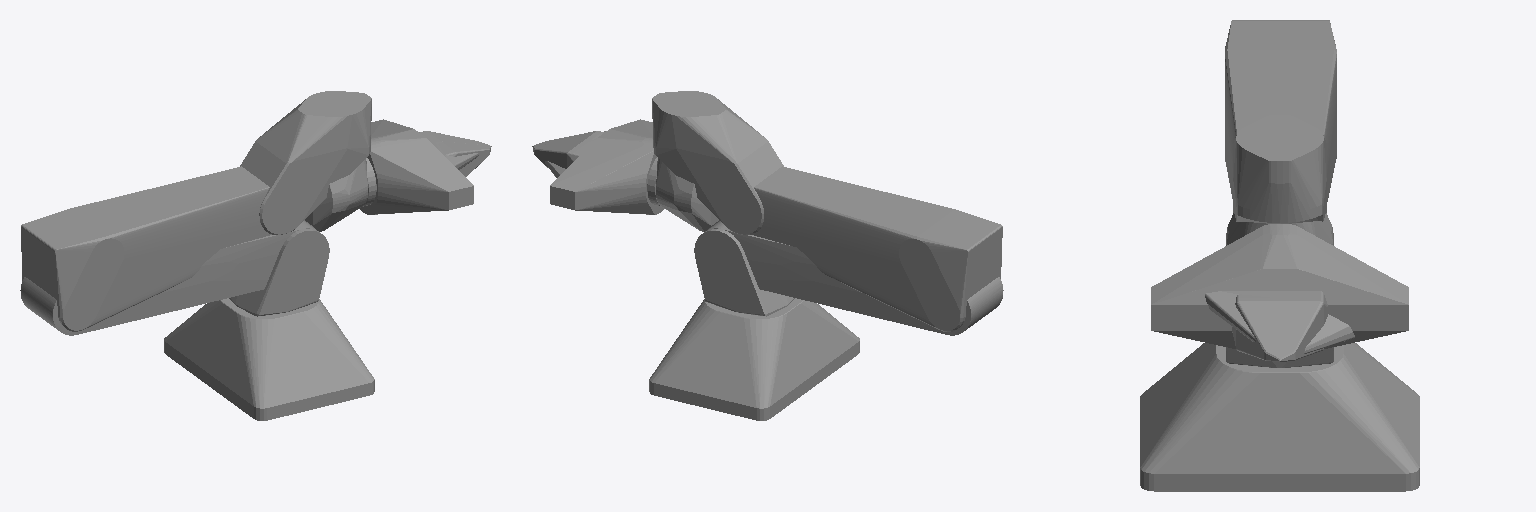
URDF robot description (rebot_b601dm):
<?xml version="1.0" ?>
<!-- =================================================================================== -->
<!-- |    This document was autogenerated by xacro from /workspaces/rebot_isaac_ws/src/rebot_b601dm_description/urdf/rebot_b601dm_full.urdf.xacro | -->
<!-- |    EDITING THIS FILE BY HAND IS NOT RECOMMENDED                                 | -->
<!-- =================================================================================== -->
<!--
  PRODUCT 1 of 2: the FULL planning model.
  Consumers: MoveIt, cuMotion, robot_state_publisher, nvblox robot segmenter,
             the Isaac Sim USD import.

  Contains the arm, the parallel-jaw gripper (2 prismatic joints, one mimicking
  the other), gripper_tcp, and the wrist camera frames.

  Generate with:
    xacro rebot_b601dm_full.urdf.xacro \
      extrinsics_file:=<ws>/config/extrinsics_sim.yaml > rebot_b601dm_full.urdf

  The companion driver product (rebot_b601dm_driver.urdf.xacro) shares the arm
  and wrist macros so the two cannot drift apart — that shared-source property
  is what makes the Stage 2 cross-model FK parity test meaningful rather than
  circular.
-->
<robot name="rebot_b601dm">
  <link name="base_link">
    <inertial>
      <origin rpy="0 0 0" xyz="-2.70523135620574E-06 -7.70134319499296E-06 0.028980835090929"/>
      <mass value="0.79874480798149"/>
      <inertia ixx="0.00167922927706365" ixy="1.88775164237686E-09" ixz="-1.97136369561029E-08" iyy="0.00100413042930826" iyz="2.1823444305057E-07" izz="0.00243992061460991"/>
    </inertial>
    <visual>
      <origin rpy="0 0 0" xyz="0 0 0"/>
      <geometry>
        <mesh filename="package://rebot_b601dm_description/meshes/visual/base_link.STL"/>
      </geometry>
      <material name="rebot_grey">
        <color rgba="0.627450980392157 0.627450980392157 0.627450980392157 1"/>
      </material>
    </visual>
    <collision>
      <origin rpy="0 0 0" xyz="0 0 0"/>
      <geometry>
        <mesh filename="package://rebot_b601dm_description/meshes/collision/base_link.STL"/>
      </geometry>
    </collision>
  </link>
  <link name="link1">
    <inertial>
      <origin rpy="0 0 0" xyz="1.20584908205569E-05 -0.00052246270024925 0.0197721792915801"/>
      <mass value="0.0840736498625263"/>
      <inertia ixx="8.53930680558479E-05" ixy="5.36083090564592E-11" ixz="8.1878892265138E-06" iyy="5.08885968641724E-05" iyz="1.61532065580032E-10" izz="8.03867731313707E-05"/>
    </inertial>
    <visual>
      <origin rpy="0 0 0" xyz="0 0 0"/>
      <geometry>
        <mesh filename="package://rebot_b601dm_description/meshes/visual/link1.STL"/>
      </geometry>
      <material name="rebot_grey"/>
    </visual>
    <collision>
      <origin rpy="0 0 0" xyz="0 0 0"/>
      <geometry>
        <mesh filename="package://rebot_b601dm_description/meshes/collision/link1.STL"/>
      </geometry>
    </collision>
  </link>
  <joint name="joint1" type="revolute">
    <origin rpy="0 0 0" xyz="-8.416E-05 0 0.08465"/>
    <parent link="base_link"/>
    <child link="link1"/>
    <axis xyz="0 0 1"/>
    <limit effort="27" lower="-2.8" upper="2.8" velocity="5.0"/>
  </joint>
  <link name="link2">
    <inertial>
      <origin rpy="0 0 0" xyz="-0.13224463371047 -0.00305031595315752 -0.0309299400248282"/>
      <mass value="0.710394385134637"/>
      <inertia ixx="0.00025002655459552" ixy="1.60716279794484E-06" ixz="2.51351488848234E-09" iyy="0.00186321981627926" iyz="4.36542160316282E-07" izz="0.00186007710433815"/>
    </inertial>
    <visual>
      <origin rpy="0 0 0" xyz="0 0 0"/>
      <geometry>
        <mesh filename="package://rebot_b601dm_description/meshes/visual/link2.STL"/>
      </geometry>
      <material name="rebot_grey"/>
    </visual>
    <collision>
      <origin rpy="0 0 0" xyz="0 0 0"/>
      <geometry>
        <mesh filename="package://rebot_b601dm_description/meshes/collision/link2.STL"/>
      </geometry>
    </collision>
  </link>
  <joint name="joint2" type="revolute">
    <origin rpy="-1.5708 0 0" xyz="0.020084 0.031625 0.05555"/>
    <parent link="link1"/>
    <child link="link2"/>
    <axis xyz="0 0 -1"/>
    <limit effort="27" lower="-3.14" upper="0" velocity="5.0"/>
  </joint>
  <link name="link3">
    <inertial>
      <origin rpy="0 0 0" xyz="0.121507513231219 -0.0537568110789665 -0.0310861781010256"/>
      <mass value="0.524941641478664"/>
      <inertia ixx="0.000160157099221732" ixy="-1.6160403467948E-05" ixz="-3.33082723997513E-06" iyy="0.00124905589930288" iyz="2.96940939137566E-07" izz="0.00125568117526574"/>
    </inertial>
    <visual>
      <origin rpy="0 0 0" xyz="0 0 0"/>
      <geometry>
        <mesh filename="package://rebot_b601dm_description/meshes/visual/link3.STL"/>
      </geometry>
      <material name="rebot_grey"/>
    </visual>
    <collision>
      <origin rpy="0 0 0" xyz="0 0 0"/>
      <geometry>
        <mesh filename="package://rebot_b601dm_description/meshes/collision/link3.STL"/>
      </geometry>
    </collision>
  </link>
  <joint name="joint3" type="revolute">
    <origin rpy="0 0 0" xyz="-0.264 0 0"/>
    <parent link="link2"/>
    <child link="link3"/>
    <axis xyz="0 0 1"/>
    <limit effort="27" lower="-3.14" upper="0" velocity="5.0"/>
  </joint>
  <link name="link4">
    <inertial>
      <origin rpy="0 0 0" xyz="0.0612381846323297 -0.0515229512574568 -0.0303340352965348"/>
      <mass value="0.191139210973019"/>
      <inertia ixx="7.18184289370392E-05" ixy="-1.12301944951731E-05" ixz="-5.19641435494074E-08" iyy="0.000112900067589117" iyz="2.21782677668291E-07" izz="0.000101141504876404"/>
    </inertial>
    <visual>
      <origin rpy="0 0 0" xyz="0 0 0"/>
      <geometry>
        <mesh filename="package://rebot_b601dm_description/meshes/visual/link4.STL"/>
      </geometry>
      <material name="rebot_grey"/>
    </visual>
    <collision>
      <origin rpy="0 0 0" xyz="0 0 0"/>
      <geometry>
        <mesh filename="package://rebot_b601dm_description/meshes/collision/link4.STL"/>
      </geometry>
    </collision>
  </link>
  <joint name="joint4" type="revolute">
    <origin rpy="0 0 0" xyz="0.2426 -0.054 -0.001625"/>
    <parent link="link3"/>
    <child link="link4"/>
    <axis xyz="0 0 1"/>
    <limit effort="7" lower="-1.87" upper="1.57" velocity="3.0"/>
  </joint>
  <link name="link5">
    <inertial>
      <origin rpy="0 0 0" xyz="-0.00504933072901427 1.74603011302099E-06 0.0387866303374511"/>
      <mass value="0.150004102113546"/>
      <inertia ixx="6.79196566487009E-05" ixy="-7.20237013118825E-10" ixz="-2.82554291275232E-06" iyy="5.17186991502111E-05" iyz="9.87947763397051E-09" izz="5.43656904496111E-05"/>
    </inertial>
    <visual>
      <origin rpy="0 0 0" xyz="0 0 0"/>
      <geometry>
        <mesh filename="package://rebot_b601dm_description/meshes/visual/link5.STL"/>
      </geometry>
      <material name="rebot_grey"/>
    </visual>
    <collision>
      <origin rpy="0 0 0" xyz="0 0 0"/>
      <geometry>
        <mesh filename="package://rebot_b601dm_description/meshes/collision/link5.STL"/>
      </geometry>
    </collision>
  </link>
  <joint name="joint5" type="revolute">
    <origin rpy="-1.5708 0 0" xyz="0.078308 -0.0375 -0.03"/>
    <parent link="link4"/>
    <child link="link5"/>
    <axis xyz="0 0 1"/>
    <limit effort="7" lower="-1.57" upper="1.57" velocity="3.0"/>
  </joint>
  <link name="link6">
    <inertial>
      <origin rpy="0 0 0" xyz="-1.76034430143801E-05 7.61449749622373E-09 0.00431722560895041"/>
      <mass value="0.0187271664583674"/>
      <inertia ixx="4.42801172036323E-06" ixy="1.26927907319828E-13" ixz="-1.52049684129749E-10" iyy="4.37712746743999E-06" iyz="-2.5907655197107E-13" izz="8.55249688102954E-06"/>
    </inertial>
    <visual>
      <origin rpy="0 0 0" xyz="0 0 0"/>
      <geometry>
        <mesh filename="package://rebot_b601dm_description/meshes/visual/link6.STL"/>
      </geometry>
      <material name="rebot_grey"/>
    </visual>
    <collision>
      <origin rpy="0 0 0" xyz="0 0 0"/>
      <geometry>
        <mesh filename="package://rebot_b601dm_description/meshes/collision/link6.STL"/>
      </geometry>
    </collision>
  </link>
  <!--
      joint6 origin is the WITH-GRIPPER value (0.023692), which is the canonical
      one. Seeed's fixend URDF uses 0.028008 paired with a 0.15539 end offset;
      those two cancel to within 4 um of this model's 0.023692 + 0.15971, because
      the joint6 origin delta rotates onto link6 -Z through rpy=(0, 1.5708, 0).
      The real difference between the two upstream models is a 180-degree flip
      about X, not a translation — see docs/KDR-001-kinematic-frames.md.
    -->
  <joint name="joint6" type="revolute">
    <origin rpy="0 1.5708 0" xyz="0.023692 0 0.04"/>
    <parent link="link5"/>
    <child link="link6"/>
    <axis xyz="0 0 1"/>
    <limit effort="7" lower="-3.14" upper="3.14" velocity="3.0"/>
  </joint>
  <link name="gripper_link">
    <inertial>
      <origin rpy="0 0 0" xyz="-0.11400456131826 7.30809328589541E-05 -8.098254686284E-08"/>
      <mass value="0.181800159145243"/>
      <inertia ixx="0.000232385828322385" ixy="-2.77584025941111E-07" ixz="-6.04874349510246E-10" iyy="5.85085867377427E-05" iyz="-1.15493362444215E-08" izz="0.000205213535851537"/>
    </inertial>
    <visual>
      <origin rpy="0 0 0" xyz="0 0 0"/>
      <geometry>
        <mesh filename="package://rebot_b601dm_description/meshes/visual/gripper_link.STL"/>
      </geometry>
      <material name="rebot_grey"/>
    </visual>
    <collision>
      <origin rpy="0 0 0" xyz="0 0 0"/>
      <geometry>
        <mesh filename="package://rebot_b601dm_description/meshes/collision/gripper_link.STL"/>
      </geometry>
    </collision>
  </link>
  <joint name="gripper_joint" type="fixed">
    <origin rpy="0 -1.5708 0" xyz="0 0 0.15971"/>
    <parent link="link6"/>
    <child link="gripper_link"/>
  </joint>
  <!-- Canonical tool centre point. Massless frame, no geometry. -->
  <link name="gripper_tcp"/>
  <joint name="gripper_tcp_joint" type="fixed">
    <origin rpy="0 0 0" xyz="-0.0443 0 0"/>
    <parent link="gripper_link"/>
    <child link="gripper_tcp"/>
  </joint>
  <link name="gripper_left">
    <inertial>
      <origin rpy="0 0 0" xyz="0.00937154605945142 -0.0183514409006279 -0.00213050813223617"/>
      <mass value="0.0423278952416158"/>
      <inertia ixx="9.68819007445228E-06" ixy="-1.14547785891207E-06" ixz="1.82410432419993E-08" iyy="9.7195653452821E-06" iyz="1.20737618180169E-07" izz="1.13638462227589E-05"/>
    </inertial>
    <visual>
      <origin rpy="0 0 0" xyz="0 0 0"/>
      <geometry>
        <mesh filename="package://rebot_b601dm_description/meshes/visual/gripper_left.STL"/>
      </geometry>
      <material name="rebot_grey"/>
    </visual>
    <collision>
      <origin rpy="0 0 0" xyz="0 0 0"/>
      <geometry>
        <mesh filename="package://rebot_b601dm_description/meshes/collision/gripper_left.STL"/>
      </geometry>
    </collision>
  </link>
  <joint name="gripper_joint1" type="prismatic">
    <origin rpy="0 0 -1.5708" xyz="-0.042091 2.7531E-05 -1.3031E-05"/>
    <parent link="gripper_link"/>
    <child link="gripper_left"/>
    <axis xyz="1 0 0"/>
    <limit effort="100" lower="0.0" upper="0.0715" velocity="0.2"/>
  </joint>
  <link name="gripper_right">
    <inertial>
      <origin rpy="0 0 0" xyz="0.00937154599936671 0.0183514410059713 0.00213050822993754"/>
      <mass value="0.0423278949561274"/>
      <inertia ixx="9.68819002375832E-06" ixy="1.14547786360874E-06" ixz="-1.82410118281856E-08" iyy="9.7195652747221E-06" iyz="1.20737613592695E-07" izz="1.13638461944347E-05"/>
    </inertial>
    <visual>
      <origin rpy="0 0 0" xyz="0 0 0"/>
      <geometry>
        <mesh filename="package://rebot_b601dm_description/meshes/visual/gripper_right.STL"/>
      </geometry>
      <material name="rebot_grey"/>
    </visual>
    <collision>
      <origin rpy="0 0 0" xyz="0 0 0"/>
      <geometry>
        <mesh filename="package://rebot_b601dm_description/meshes/collision/gripper_right.STL"/>
      </geometry>
    </collision>
  </link>
  <joint name="gripper_joint2" type="prismatic">
    <origin rpy="0 0 1.5708" xyz="-0.042091 -2.7531E-05 1.3031E-05"/>
    <parent link="gripper_link"/>
    <child link="gripper_right"/>
    <axis xyz="1 0 0"/>
    <limit effort="100" lower="0.0" upper="0.0715" velocity="0.2"/>
    <!--
        AUTHORED, not corrected: upstream has no <mimic> anywhere. Without it the
        gripper is 2 DoF and every consumer (MoveIt, cuMotion, RViz) can command
        asymmetric jaws that the single-motor hardware cannot produce.

        multiplier="+1.0" is correct despite the jaws moving in opposite spatial
        directions: the two joint origins are ANTIPARALLEL (yaw -1.5708 vs
        +1.5708) and both axes are the local +X, so equal positive joint values
        already open the jaws symmetrically. A -1.0 multiplier would drive one jaw
        out of its [0, 0.0715] limit immediately.
      -->
    <mimic joint="gripper_joint1" multiplier="1.0" offset="0.0"/>
  </joint>
  <!-- Mechanical mount on the wrist. Massless frame; the physical bracket's
         collision volume is represented in the XRDF spheres, not here. -->
  <link name="camera_mount"/>
  <joint name="camera_mount_joint" type="fixed">
    <origin rpy="0.0 0.0 0.0" xyz="0.05 0.0 0.06"/>
    <parent link="link6"/>
    <child link="camera_mount"/>
  </joint>
  <!-- Camera body frame. Identity w.r.t. the mount in the sim profile; the
         hand-eye result makes it non-identity on real hardware. -->
  <link name="camera_link"/>
  <joint name="camera_link_joint" type="fixed">
    <origin rpy="0.0 0.0 0.0" xyz="0.0 0.0 0.0"/>
    <parent link="camera_mount"/>
    <child link="camera_link"/>
  </joint>
  <!-- Colour optical frame: the parent of CameraInfo and of every published
         pose from FoundationPose. -->
  <link name="camera_color_optical_frame"/>
  <joint name="camera_color_optical_joint" type="fixed">
    <origin rpy="-1.5707963267948966 0.0 -1.5707963267948966" xyz="0 0 0"/>
    <parent link="camera_link"/>
    <child link="camera_color_optical_frame"/>
  </joint>
  <!-- Depth optical frame. Coincident with colour because both the sim camera
         and a D435 in aligned-depth mode register depth into the colour frame.
         Kept as a distinct frame so consumers that ask for the depth parent get a
         valid answer instead of a TF lookup failure. -->
  <link name="camera_depth_optical_frame"/>
  <joint name="camera_depth_optical_joint" type="fixed">
    <origin rpy="0 0 0" xyz="0 0 0"/>
    <parent link="camera_color_optical_frame"/>
    <child link="camera_depth_optical_frame"/>
  </joint>
</robot>

--- What the picture shows (computed from the rendered views, not written in the file) ---
3 views of the same robot in one strip: view 1: azimuth 30°, elevation 25°; view 2: azimuth 150°, elevation 25°; view 3: azimuth 270°, elevation 25° (orthographic).
Model rebot_b601dm with 15 links and 14 joints (6 revolute, 2 prismatic, 6 fixed), rooted at base_link, posed all joints at 0.
Links seen in each view (by area): view 1: link3, base_link, link4, link2, gripper_link, link1, link5, gripper_right, gripper_left; view 2: link3, base_link, link4, gripper_link, link2, link1, link5, gripper_left, gripper_right; view 3: base_link, gripper_link, link3, link4, gripper_left, gripper_right, link1, link5.
Boxes of the visible links, x1,y1,x2,y2 form: link3: (21,166,271,331); base_link: (164,298,374,420); link4: (240,91,371,234); link2: (20,221,315,335); gripper_link: (360,119,473,214); link1: (229,226,329,316); link5: (304,159,367,231); gripper_right: (438,141,490,176); gripper_left: (419,131,491,169); link3: (752,166,1002,331); base_link: (649,298,859,420); link4: (652,91,783,234); gripper_link: (550,119,663,214); link2: (708,221,1003,335); link1: (694,228,794,316); link5: (656,158,719,231); gripper_left: (533,131,605,168); gripper_right: (532,131,604,177); base_link: (1140,343,1419,491); gripper_link: (1151,224,1408,348); link3: (1225,20,1336,201); link4: (1233,115,1326,223); gripper_left: (1205,291,1327,361); gripper_right: (1232,294,1354,361); link1: (1226,347,1333,367); link5: (1226,213,1333,245).
Bounding box of the posed robot: 0.5328 × 0.2 × 0.2822 m (x, y, z).
Meshes: 10 distinct files referenced, 10 mesh visuals loaded (10 binary STL).
